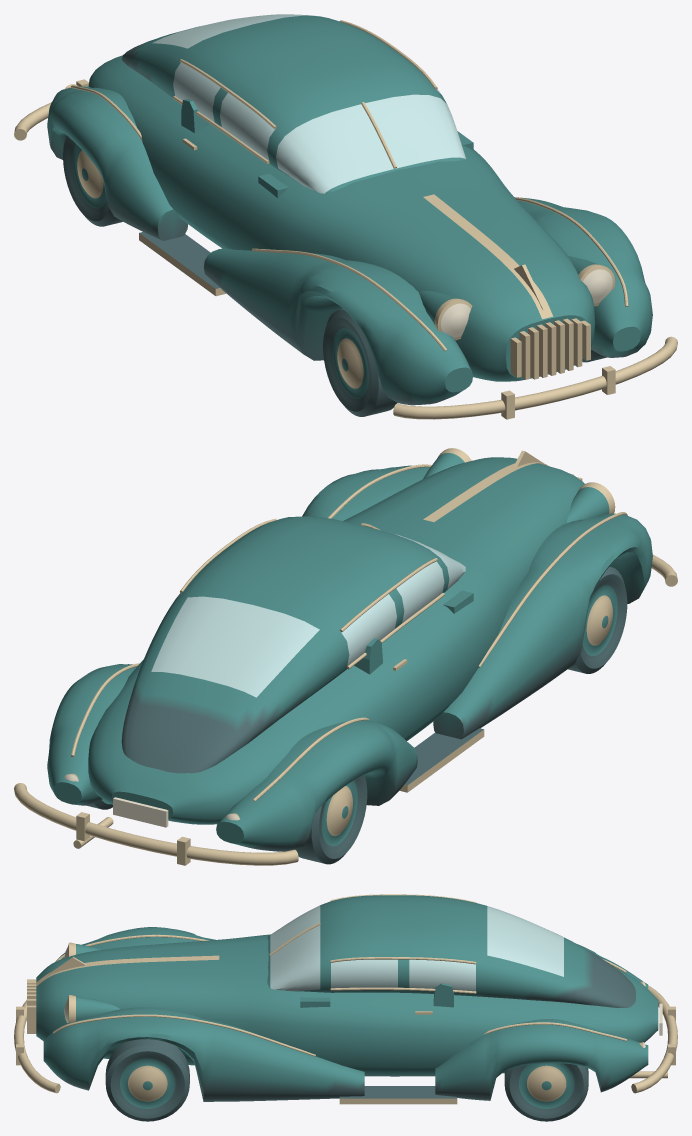
Rendered from KC32__AD_Ext_Car_Coupe_Red.glb.
3 renders of one model, top to bottom at view 1: azimuth 30°, elevation 25°; view 2: azimuth 150°, elevation 25°; view 3: azimuth 270°, elevation 25°, orthographic. The views are drawn at different scales.
Parts seen in each view (by area): view 1: KC32_CORPS__AD_Ext_Car_Coupe_Red, KC32_BRONZE__AD_Ext_Car_Coupe_Red, KC32_VITRAGE__AD_Ext_Car_Coupe_Red, KC32_LUMIERE__AD_Ext_Car_Coupe_Red; view 2: KC32_CORPS__AD_Ext_Car_Coupe_Red, KC32_VITRAGE__AD_Ext_Car_Coupe_Red, KC32_BRONZE__AD_Ext_Car_Coupe_Red, KC32_LUMIERE__AD_Ext_Car_Coupe_Red; view 3: KC32_CORPS__AD_Ext_Car_Coupe_Red, KC32_VITRAGE__AD_Ext_Car_Coupe_Red, KC32_BRONZE__AD_Ext_Car_Coupe_Red.
Part boxes in pixels (box(x1,y1,x2,y2)): KC32_CORPS__AD_Ext_Car_Coupe_Red: box(47, 15, 652, 416); KC32_BRONZE__AD_Ext_Car_Coupe_Red: box(14, 20, 677, 419); KC32_VITRAGE__AD_Ext_Car_Coupe_Red: box(152, 14, 465, 193); KC32_LUMIERE__AD_Ext_Car_Coupe_Red: box(441, 269, 612, 337); KC32_CORPS__AD_Ext_Car_Coupe_Red: box(47, 453, 652, 864); KC32_VITRAGE__AD_Ext_Car_Coupe_Red: box(151, 534, 465, 697); KC32_BRONZE__AD_Ext_Car_Coupe_Red: box(14, 448, 677, 865); KC32_LUMIERE__AD_Ext_Car_Coupe_Red: box(64, 774, 239, 827); KC32_CORPS__AD_Ext_Car_Coupe_Red: box(36, 895, 658, 1121); KC32_VITRAGE__AD_Ext_Car_Coupe_Red: box(270, 905, 563, 991); KC32_BRONZE__AD_Ext_Car_Coupe_Red: box(14, 894, 677, 1104).
Bounding box in the file's own units: 2.12 × 1.43 × 5.36.
